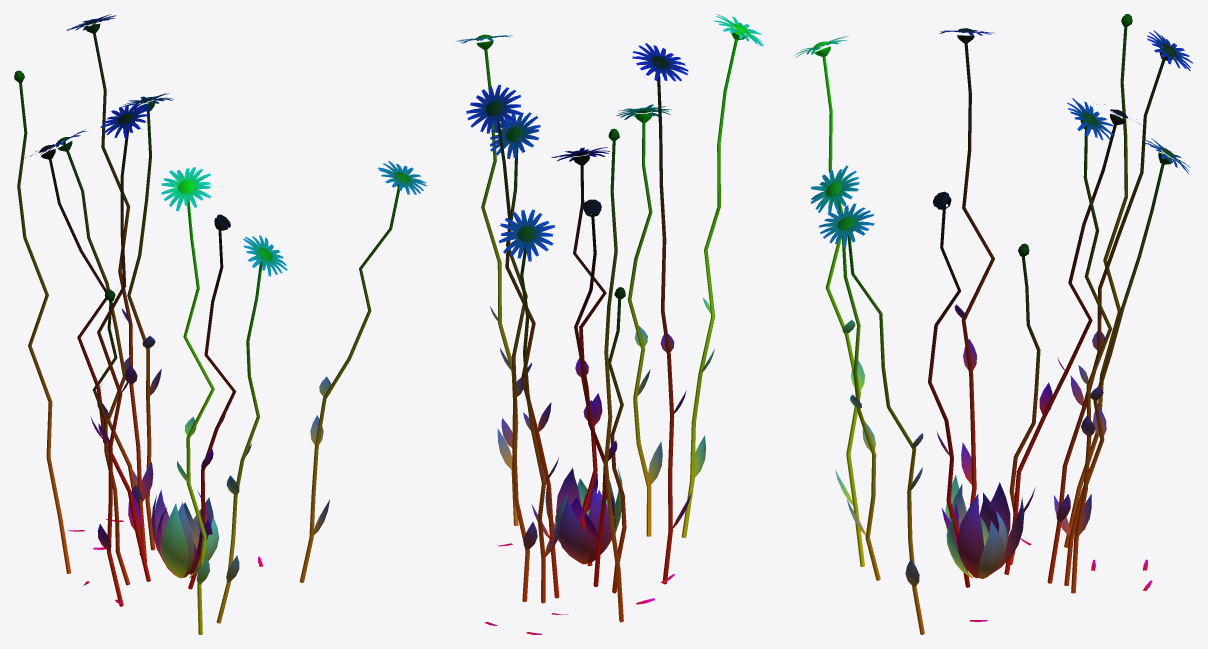
Rendered from SM_Flower_Daisy_B.fbx.
The picture shows the model from 3 angles, left to right: view 1: azimuth 30°, elevation 25°; view 2: azimuth 150°, elevation 25°; view 3: azimuth 270°, elevation 25°; orthographic projection. The views are drawn at different scales.
Parts seen in each view (by area): view 1: SM_Flower_Daisy_B; view 2: SM_Flower_Daisy_B; view 3: SM_Flower_Daisy_B.
Boxes of the visible parts, x1=… form: SM_Flower_Daisy_B: x1=14, y1=14, x2=426, y2=634; SM_Flower_Daisy_B: x1=456, y1=14, x2=763, y2=634; SM_Flower_Daisy_B: x1=795, y1=14, x2=1192, y2=634.
Size of the model in its own units: 0.3239 by 0.5667 by 0.3745.
